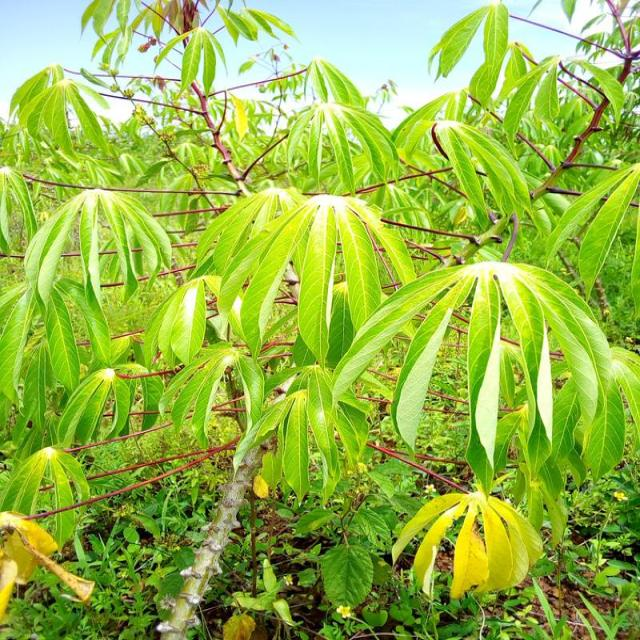cassava leaf: (0, 4, 638, 626), (390, 486, 544, 600)
